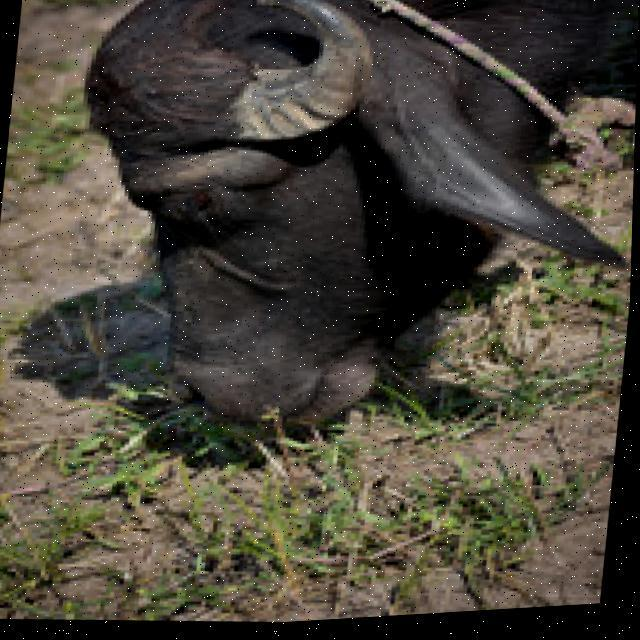Buffalo: (44, 0, 640, 475)
